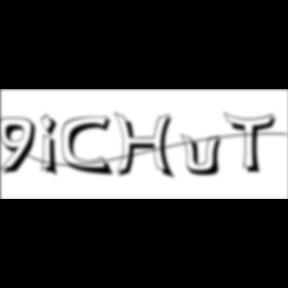9: (1, 117, 44, 177)
C: (62, 115, 116, 178)
H: (114, 112, 180, 182)
T: (224, 112, 282, 176)
i: (41, 112, 65, 180)
u: (180, 132, 228, 178)
